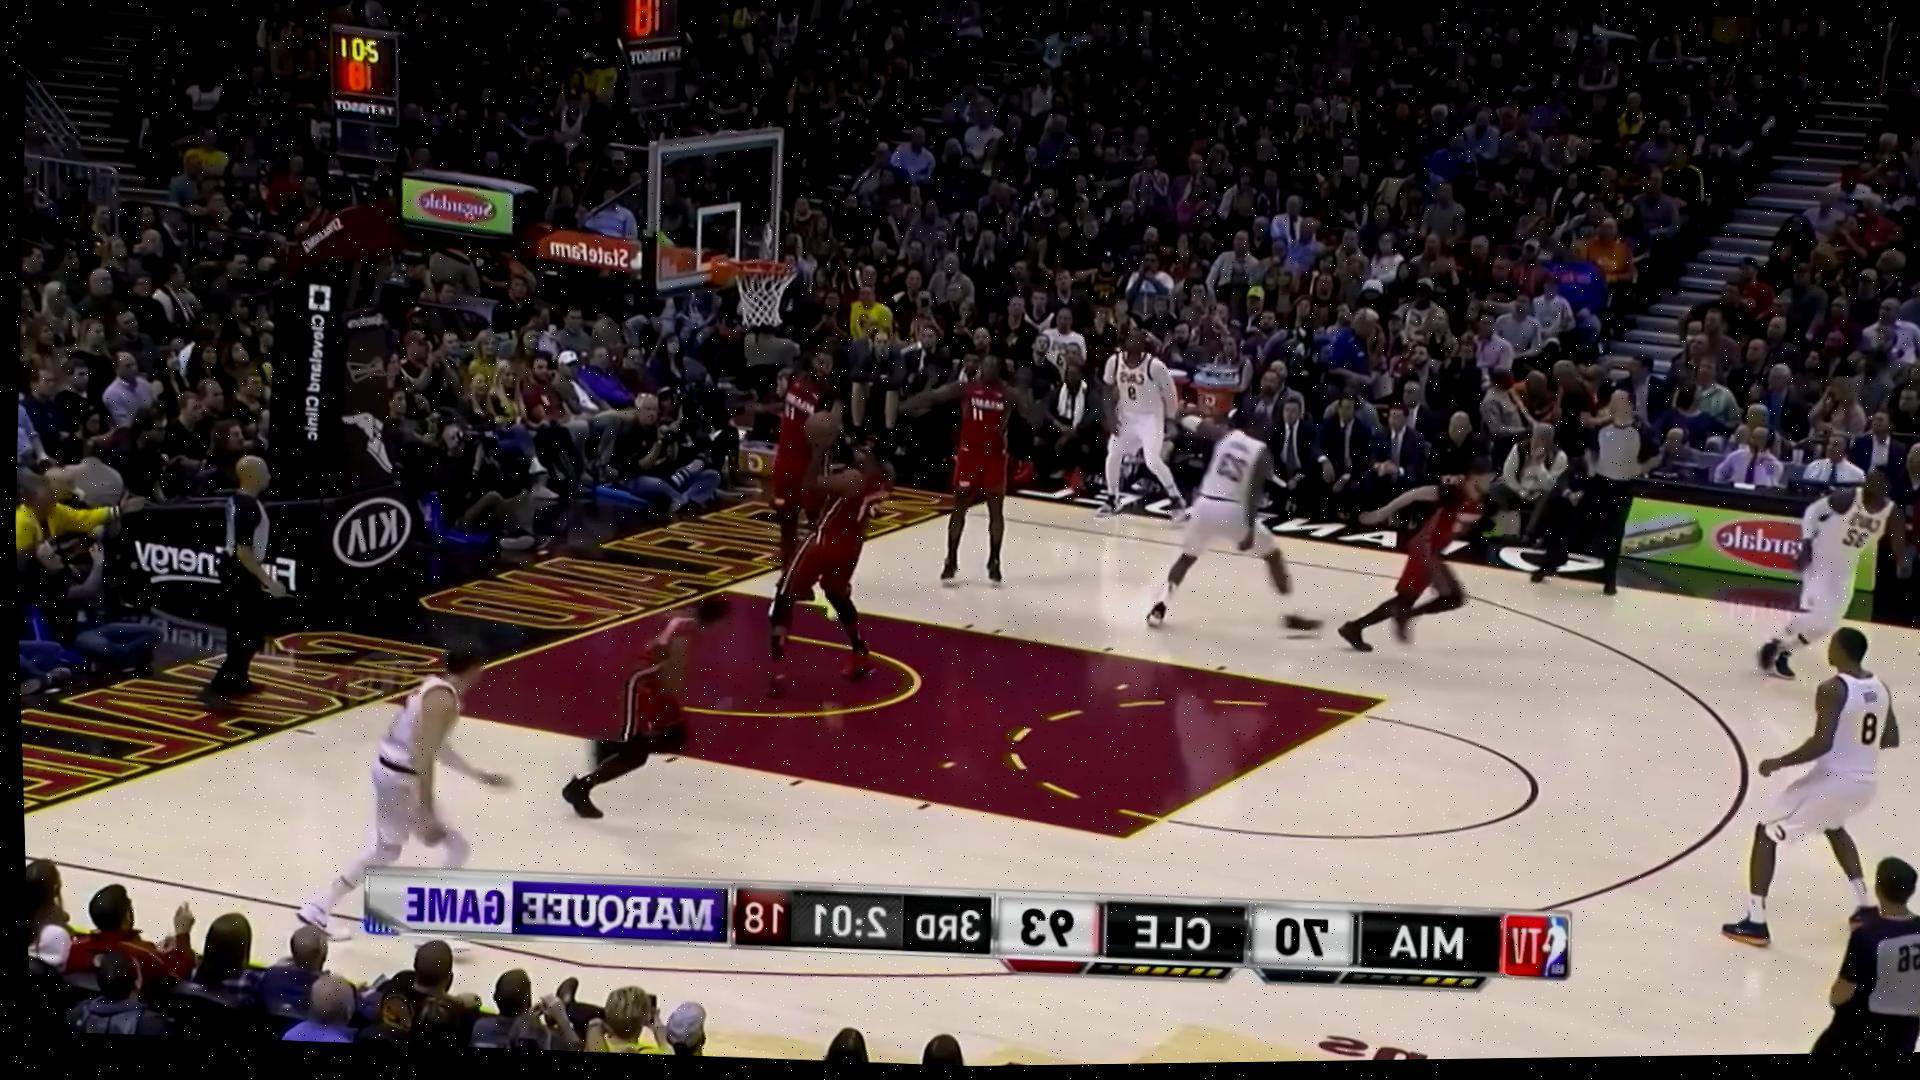no_foul: (743, 361, 909, 692)
